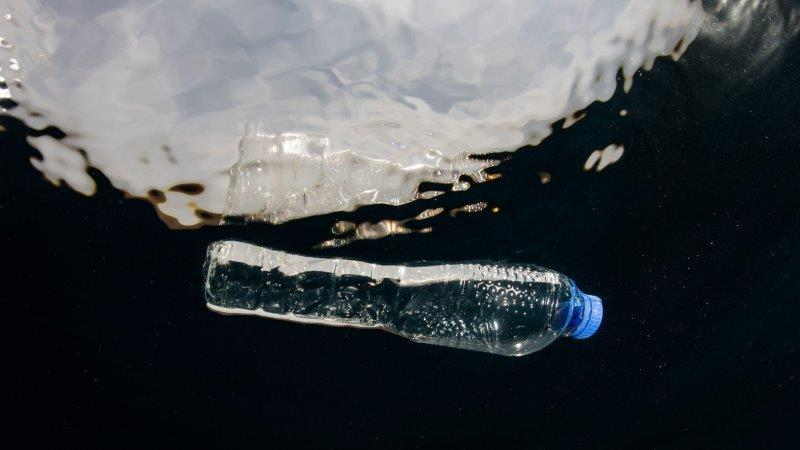plastic: (197, 225, 604, 356)
